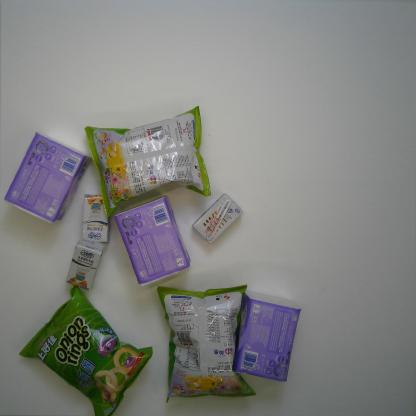Milk: (192, 191, 244, 246), (65, 238, 105, 292), (82, 193, 110, 243)
Puffed Food: (18, 286, 154, 416), (83, 105, 212, 218), (156, 284, 258, 403)
Tissue: (4, 132, 92, 224), (114, 194, 190, 286), (231, 290, 302, 382)
